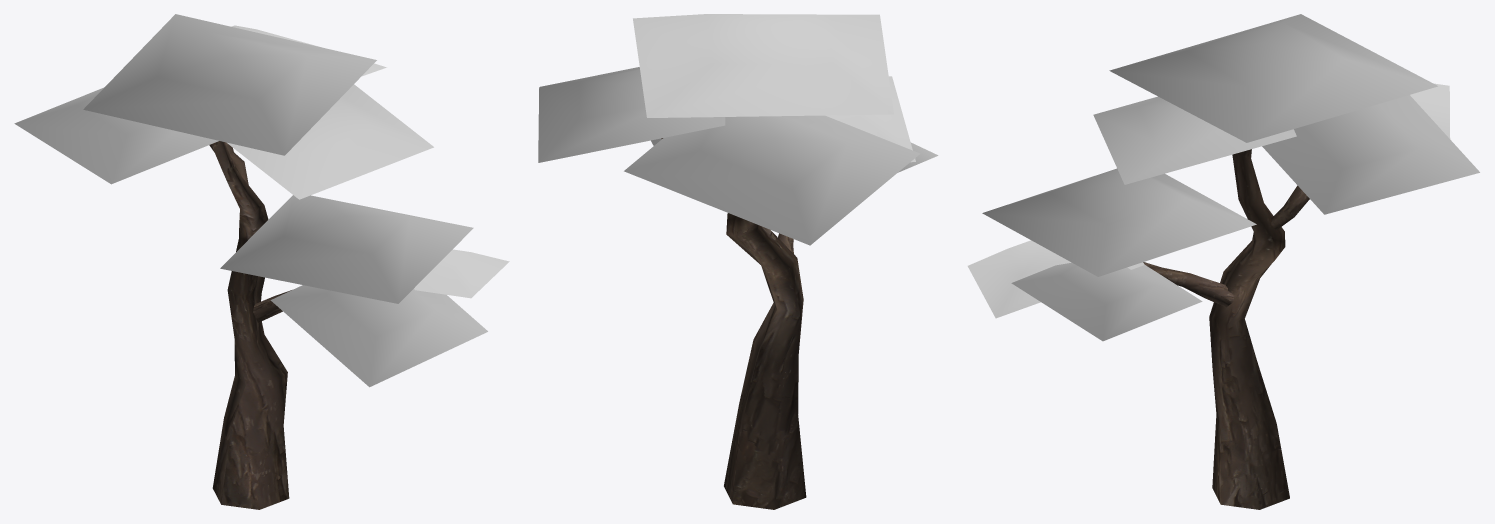
The model's file is Tree_7.FBX.
3 views of the same model, side by side, from view 1: azimuth 30°, elevation 25°; view 2: azimuth 150°, elevation 25°; view 3: azimuth 270°, elevation 25° (orthographic). The views are drawn at different scales.
Visible parts, largest first — view 1: Object012, polySurface315; view 2: Object012, polySurface315; view 3: Object012, polySurface315.
Boxes of the visible parts, x1,y1,x2,y2 form: Object012: (14, 14, 509, 387); polySurface315: (209, 141, 291, 509); Object012: (538, 14, 938, 245); polySurface315: (661, 138, 806, 509); Object012: (967, 14, 1479, 341); polySurface315: (1143, 149, 1309, 509).
Size of the model in its own units: 160 by 203 by 212.
